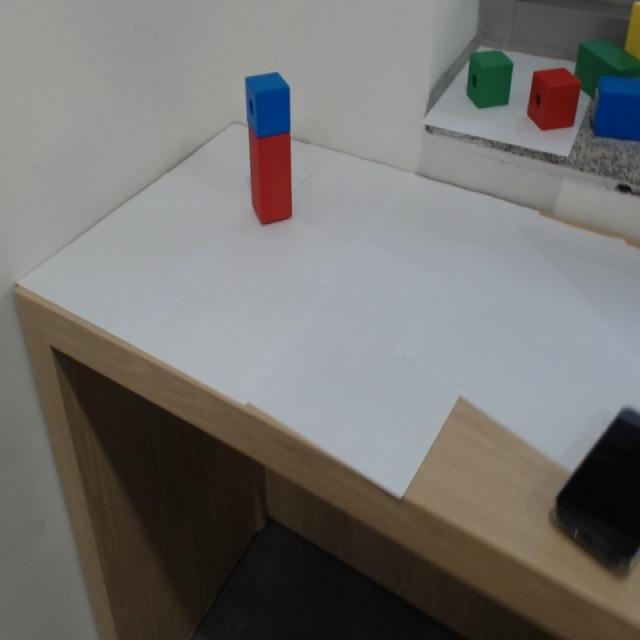cube: (237, 75, 294, 130)
